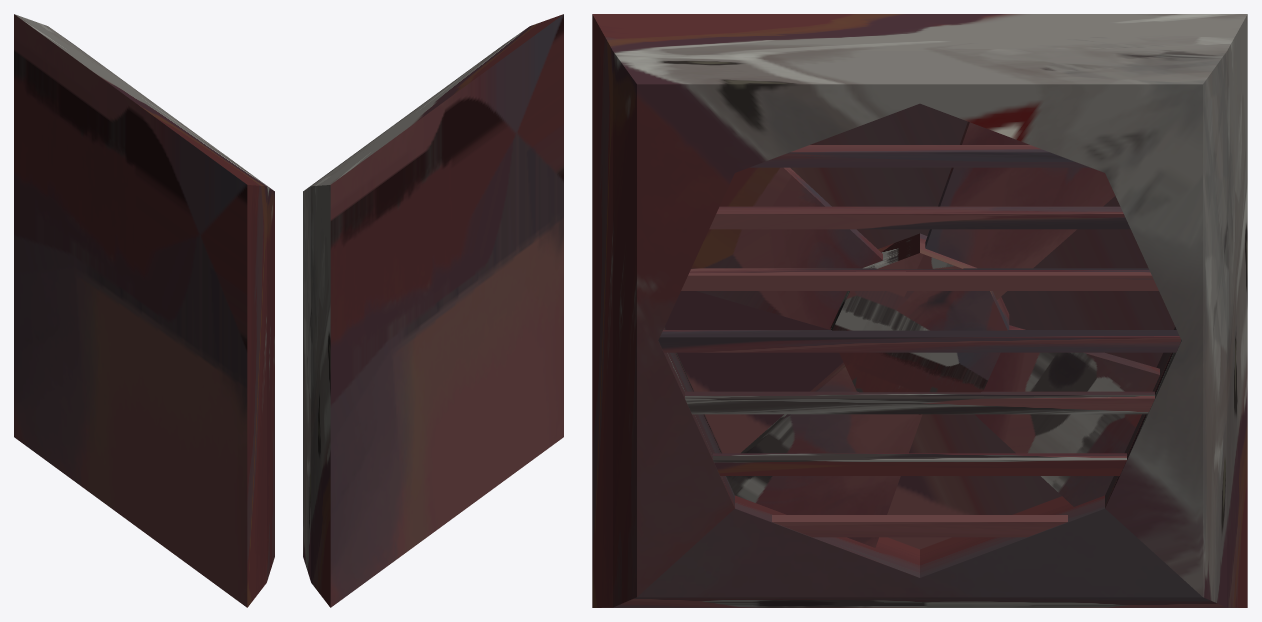
Rendered from ventilation grille.fbx.
The picture shows the model from 3 angles, left to right: view 1: azimuth 30°, elevation 25°; view 2: azimuth 150°, elevation 25°; view 3: azimuth 270°, elevation 25°; orthographic projection. The views are drawn at different scales.
Parts seen in each view (by area): view 1: ventilation grille; view 2: ventilation grille; view 3: ventilation grille.
Part boxes in pixels (box(x1,y1,x2,y2)): ventilation grille: box(14, 14, 274, 607); ventilation grille: box(303, 14, 563, 607); ventilation grille: box(592, 14, 1247, 607).
Bounding box in the file's own units: 22.98 × 213 × 213.
